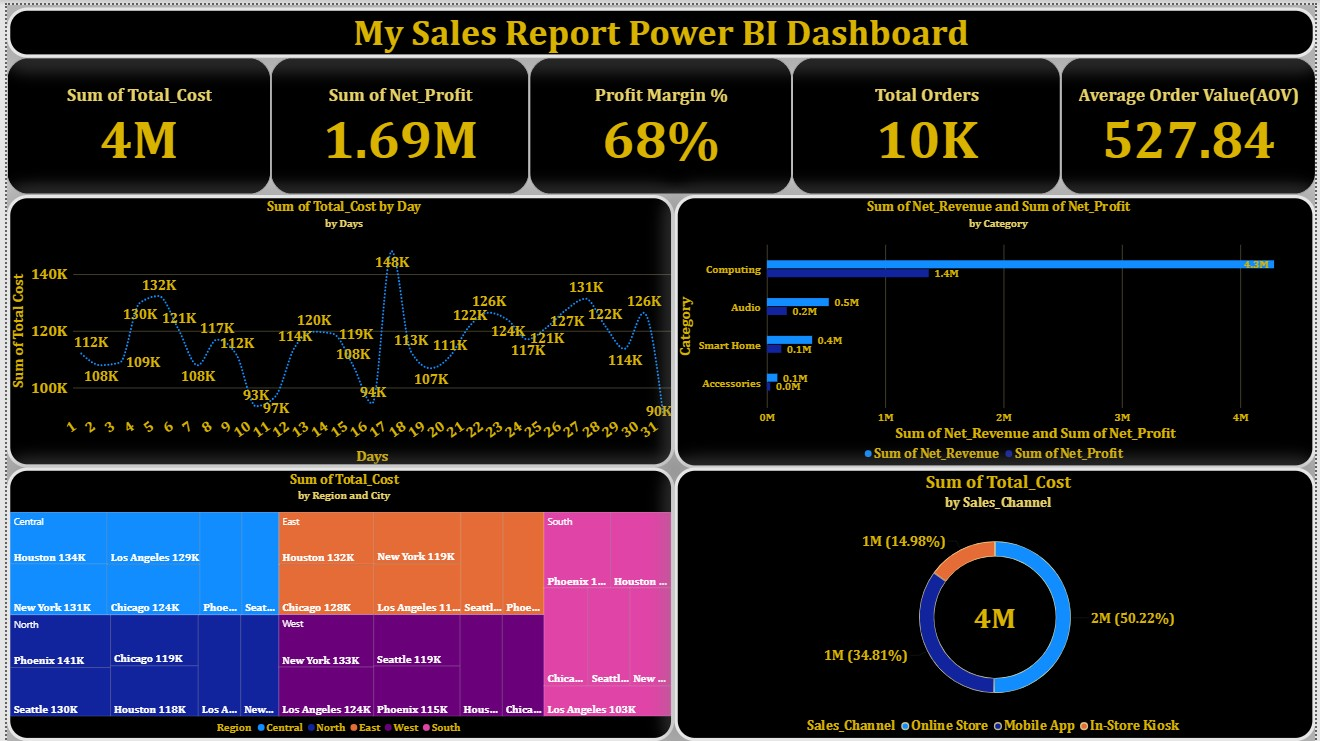

This screenshot's page, from the dashboard's own definition file:
{"tool":"powerbi","page":{"name":"My First Power BI Project","canvas":[1920,1080],"ordinal":0},"visuals":[{"type":"cardVisual","fields":{"Data":["Sum(Sales_Report.Total_Cost)"]},"box":[0,77,387,201.8],"z":0},{"type":"cardVisual","fields":{"Data":["Sum(Sales_Report.Net_Profit)"]},"box":[387,77,379.7,201.8],"z":1000},{"type":"cardVisual","fields":{"Data":["Sales_Report.Measure"]},"box":[766.7,77,385.2,201.8],"z":2000},{"type":"cardVisual","fields":{"Data":["Count(Sales_Report.Order_ID)"]},"box":[1151.9,77,394.4,201.8],"z":3000},{"type":"cardVisual","fields":{"Data":["Sales_Report.Average Order Value(AOV)"]},"box":[1546.3,77,374.2,201.8],"z":4000},{"type":"lineChart","fields":{"Category":["Sales_Report.Order_Date.Variation.Date Hierarchy.Day"],"Y":["Sum(Sales_Report.Total_Cost)"]},"box":[0,278.8,979.5,399.9],"z":5000},{"type":"clusteredBarChart","fields":{"Category":["Sales_Report.Category"],"Y":["Sum(Sales_Report.Net_Revenue)","Sum(Sales_Report.Net_Profit)"]},"box":[979.5,278.8,941,401.7],"z":5001},{"type":"treemap","fields":{"Details":["Sales_Report.City"],"Group":["Sales_Report.Region"],"Values":["Sum(Sales_Report.Total_Cost)"]},"box":[0,678.7,979.5,401.7],"z":5002},{"type":"donutChart","fields":{"Category":["Sales_Report.Sales_Channel"],"Y":["Sum(Sales_Report.Total_Cost)"]},"box":[979.5,678.7,941,401.7],"z":5003},{"type":"textbox","box":[0,3.7,1920.5,73.4],"z":5004}]}

Visuals, with their boxes in screenshot pixels (x1, y1, x2, y2), scaled from the page's 1920x1080 canvas onto the 1320x741 screenshot:
cardVisual - Sum(Sales_Report.Total_Cost): box=[0, 53, 266, 191]
cardVisual - Sum(Sales_Report.Net_Profit): box=[266, 53, 527, 191]
cardVisual - Sales_Report.Measure: box=[527, 53, 792, 191]
cardVisual - Count(Sales_Report.Order_ID): box=[792, 53, 1063, 191]
cardVisual - Sales_Report.Average Order Value(AOV): box=[1063, 53, 1319, 191]
lineChart - Sales_Report.Order_Date.Variation.Date Hierarchy.Day x Sum(Sales_Report.Total_Cost): box=[0, 191, 673, 466]
clusteredBarChart - Sales_Report.Category x Sum(Sales_Report.Net_Revenue): box=[673, 191, 1319, 467]
treemap - Sales_Report.City x Sales_Report.Region: box=[0, 466, 673, 740]
donutChart - Sales_Report.Sales_Channel x Sum(Sales_Report.Total_Cost): box=[673, 466, 1319, 740]
textbox: box=[0, 3, 1319, 53]
